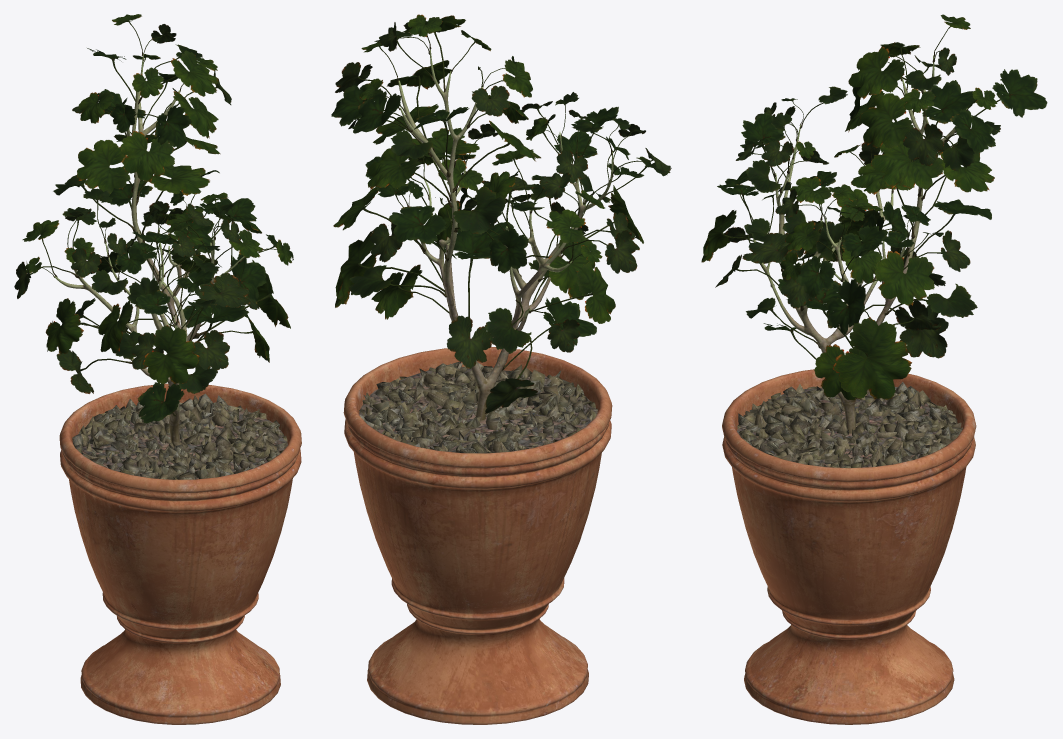
The model's file is plant_pot.glb.
3 renders of one model, left to right at view 1: azimuth 30°, elevation 25°; view 2: azimuth 150°, elevation 25°; view 3: azimuth 270°, elevation 25°, orthographic. The views are drawn at different scales.
Visible parts, largest first — view 1: plant_pot; view 2: plant_pot; view 3: plant_pot.
Boxes of the visible parts, bbox=[...] form: plant_pot: bbox=[14, 14, 301, 724]; plant_pot: bbox=[331, 14, 671, 724]; plant_pot: bbox=[701, 14, 1047, 724].
Size of the model in its own units: 0.5889 by 1.34 by 0.6366.
2 materials, 2 textured.
